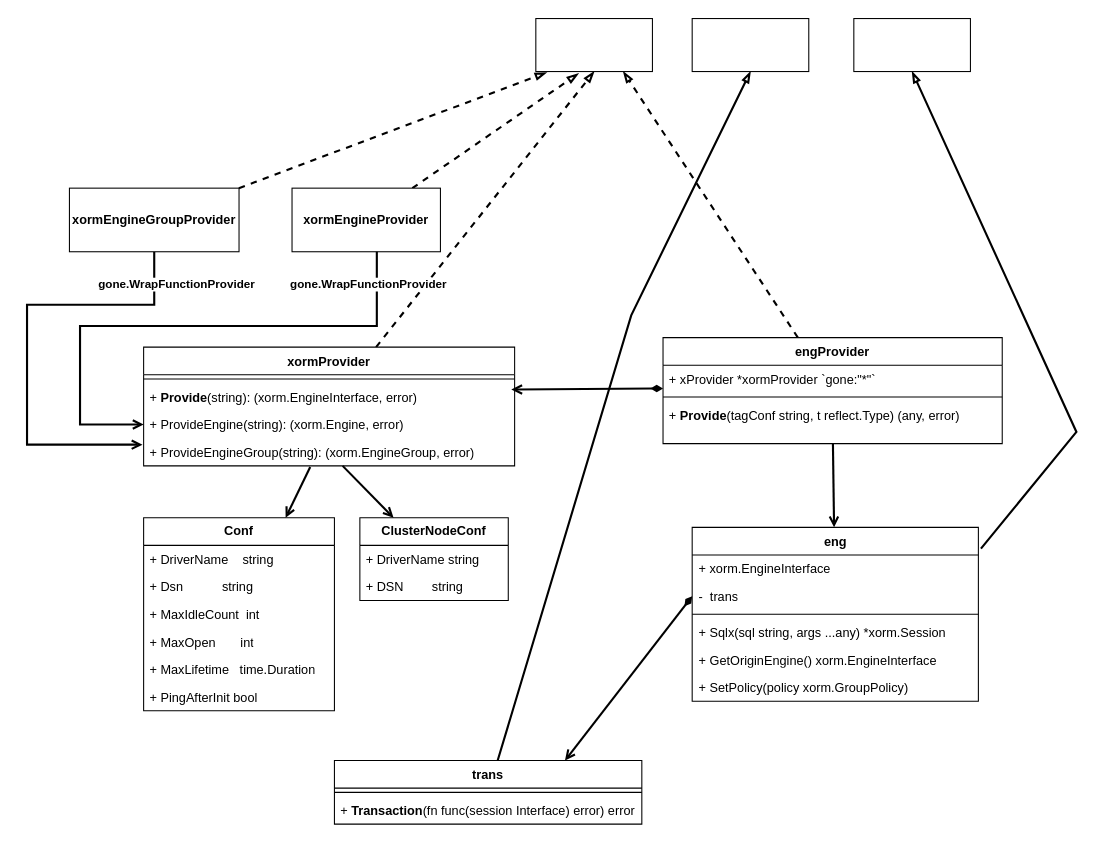
This 1103x846 diagram has some shape labels left out. Each missing label, with the centre of its shape:
"«interface» Engine" belongs at (911,44).
"«interface» gone.Provider[T]" belongs at (593,44).
"«interface» Session" belongs at (750,44).
